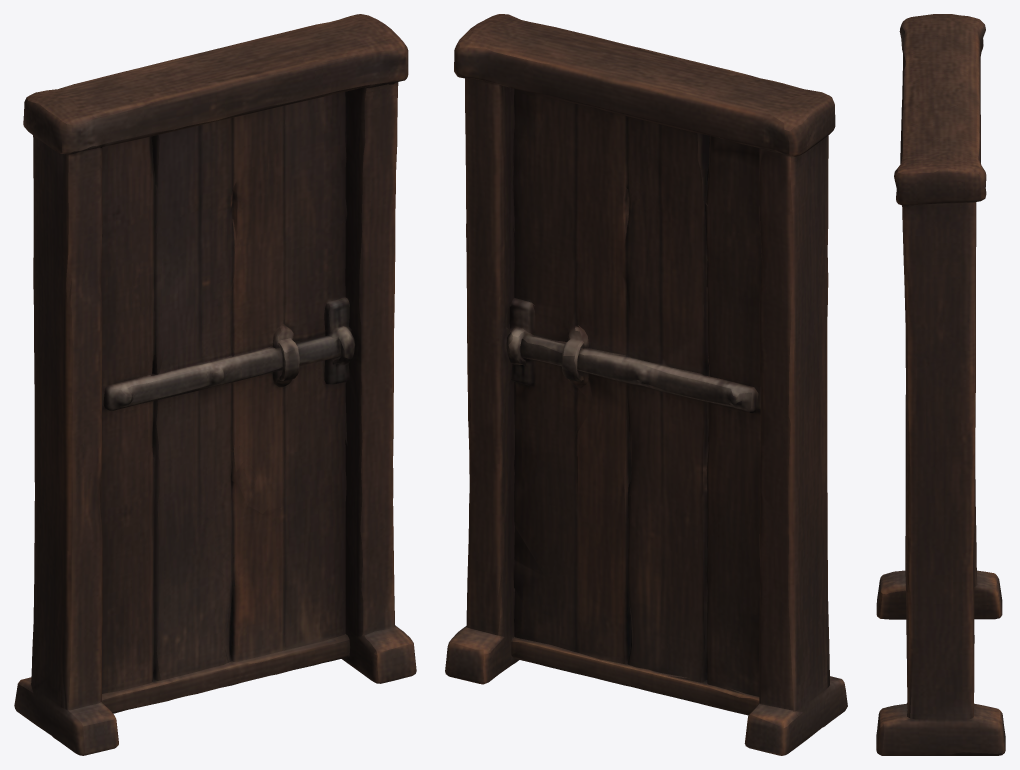
Rendered from door.glb.
The picture shows the model from 3 angles, left to right: view 1: azimuth 30°, elevation 25°; view 2: azimuth 150°, elevation 25°; view 3: azimuth 270°, elevation 25°; orthographic projection. The views are drawn at different scales.
Parts seen in each view (by area): view 1: world; view 2: world; view 3: world.
Boxes of the visible parts, x1,y1,x2,y2 form: world: (14, 14, 416, 755); world: (445, 14, 847, 755); world: (876, 14, 1005, 755).
Size of the model in its own units: 0.5824 by 1 by 0.1999.
Materials: 1 (1 with a texture image).
